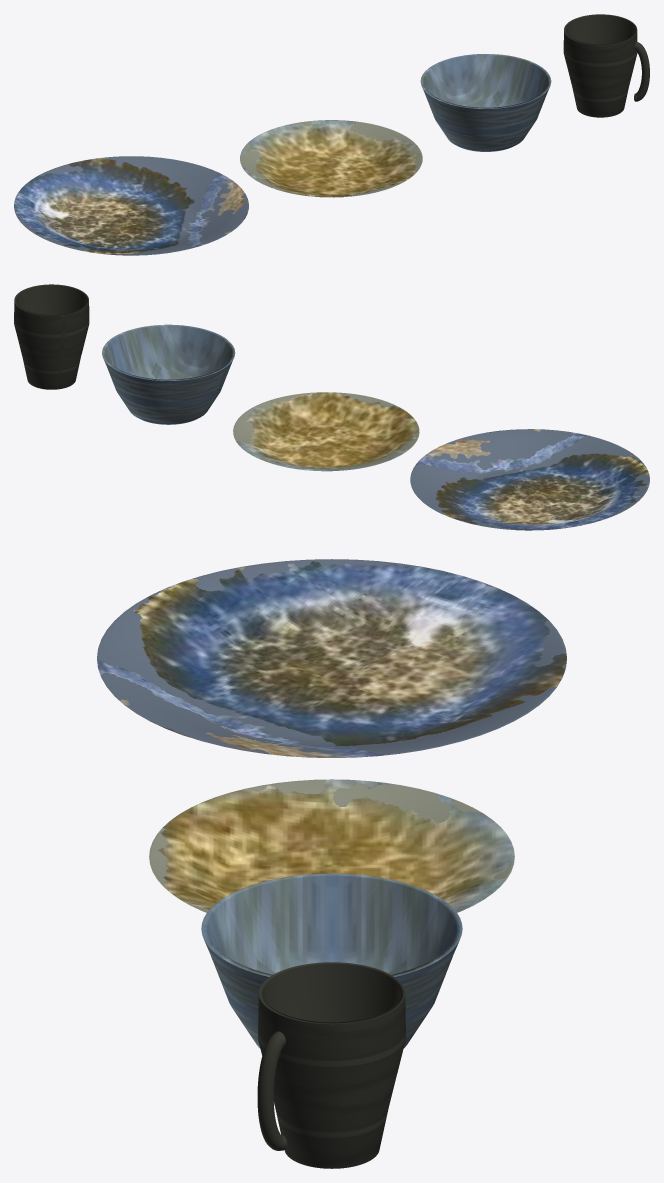
3 renders of one model, top to bottom at view 1: azimuth 30°, elevation 25°; view 2: azimuth 150°, elevation 25°; view 3: azimuth 270°, elevation 25°, orthographic. The views are drawn at different scales.
Bounding box in the file's own units: 0.7997 × 0.1 × 0.27.
9 materials, 7 textured.
